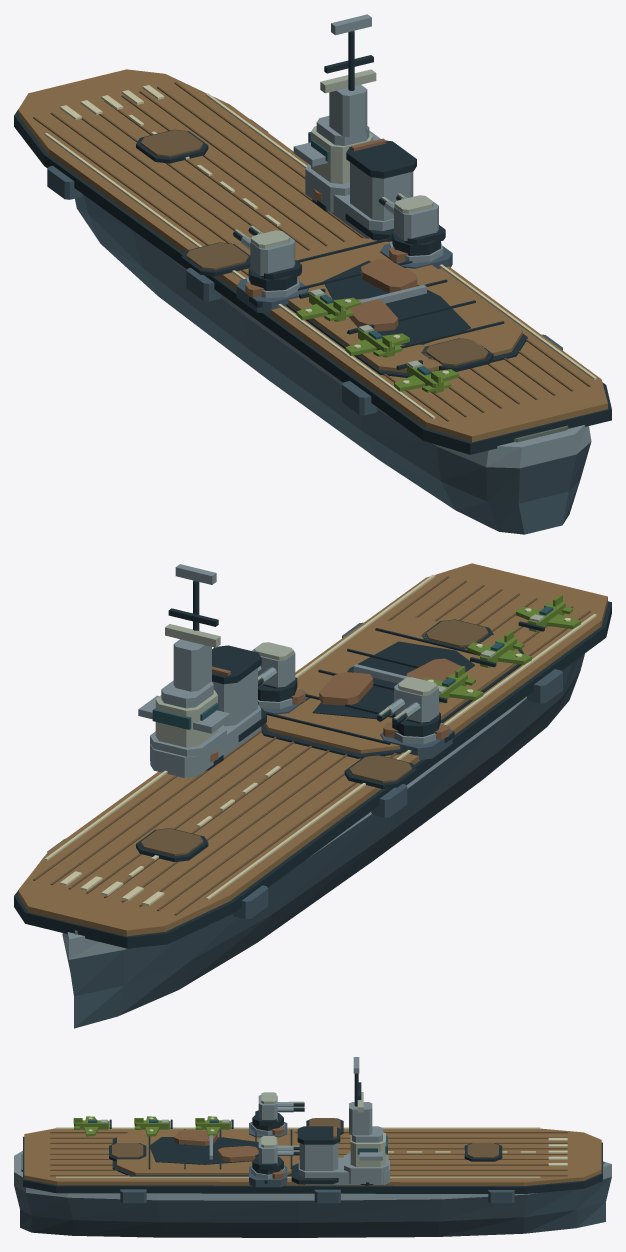
The model's file is historic-essex.glb.
3 renders of one model, top to bottom at view 1: azimuth 30°, elevation 25°; view 2: azimuth 150°, elevation 25°; view 3: azimuth 270°, elevation 25°, orthographic. The views are drawn at different scales.
Parts seen in each view (by area): view 1: historic-essex-historic-essex-geometry, historic-essex-part_flight-deck.003-geometry, historic-essex-part_bridge.009-geometry, historic-essex-ruin_flight-deck.002-geometry, historic-essex-historic_funnel_0.010-geometry, historic-essex-turret_aa_aa-port.011-geometry, historic-essex-turret_aa_aa-starboard.009-geometry, historic-essex-aircraft_lift_0.003-geometry, historic-essex-aircraft_lift_1.003-geometry, historic-essex-aircraft_lift_2.003-geometry, historic-essex-parked_aircraft_0.003-geometry, historic-essex-parked_aircraft_1.003-geometry (+3 smaller); view 2: historic-essex-historic-essex-geometry, historic-essex-part_flight-deck.003-geometry, historic-essex-part_bridge.009-geometry, historic-essex-ruin_flight-deck.002-geometry, historic-essex-historic_funnel_0.010-geometry, historic-essex-turret_aa_aa-port.011-geometry, historic-essex-turret_aa_aa-starboard.009-geometry, historic-essex-aircraft_lift_1.003-geometry, historic-essex-aircraft_lift_0.003-geometry, historic-essex-aircraft_lift_2.003-geometry, historic-essex-parked_aircraft_1.003-geometry, historic-essex-parked_aircraft_0.003-geometry (+2 smaller); view 3: historic-essex-historic-essex-geometry, historic-essex-part_flight-deck.003-geometry, historic-essex-part_bridge.009-geometry, historic-essex-historic_funnel_0.010-geometry, historic-essex-ruin_flight-deck.002-geometry, historic-essex-turret_aa_aa-port.011-geometry, historic-essex-turret_aa_aa-starboard.009-geometry, historic-essex-aircraft_lift_0.003-geometry, historic-essex-aircraft_lift_2.003-geometry, historic-essex-part_aa-starboard.009-geometry, historic-essex-parked_aircraft_1.003-geometry, historic-essex-parked_aircraft_0.003-geometry (+3 smaller).
Part boxes in pixels (left/top/right/bottom): historic-essex-historic-essex-geometry: left=14, top=69, right=611, bottom=534; historic-essex-part_flight-deck.003-geometry: left=286, top=238, right=527, bottom=377; historic-essex-part_bridge.009-geometry: left=293, top=14, right=380, bottom=212; historic-essex-ruin_flight-deck.002-geometry: left=323, top=259, right=470, bottom=344; historic-essex-historic_funnel_0.010-geometry: left=331, top=138, right=416, bottom=241; historic-essex-turret_aa_aa-port.011-geometry: left=233, top=225, right=301, bottom=290; historic-essex-turret_aa_aa-starboard.009-geometry: left=378, top=193, right=445, bottom=255; historic-essex-aircraft_lift_0.003-geometry: left=136, top=129, right=208, bottom=163; historic-essex-aircraft_lift_1.003-geometry: left=181, top=242, right=250, bottom=276; historic-essex-aircraft_lift_2.003-geometry: left=421, top=338, right=493, bottom=371; historic-essex-parked_aircraft_0.003-geometry: left=394, top=360, right=458, bottom=393; historic-essex-parked_aircraft_1.003-geometry: left=345, top=324, right=409, bottom=357; historic-essex-historic-essex-geometry: left=14, top=563, right=611, bottom=1028; historic-essex-part_flight-deck.003-geometry: left=261, top=617, right=524, bottom=758; historic-essex-part_bridge.009-geometry: left=138, top=564, right=230, bottom=773; historic-essex-ruin_flight-deck.002-geometry: left=312, top=641, right=474, bottom=719; historic-essex-historic_funnel_0.010-geometry: left=150, top=645, right=266, bottom=777; historic-essex-turret_aa_aa-port.011-geometry: left=376, top=677, right=440, bottom=736; historic-essex-turret_aa_aa-starboard.009-geometry: left=251, top=642, right=297, bottom=701; historic-essex-aircraft_lift_1.003-geometry: left=344, top=755, right=416, bottom=788; historic-essex-aircraft_lift_0.003-geometry: left=136, top=828, right=208, bottom=861; historic-essex-aircraft_lift_2.003-geometry: left=421, top=619, right=493, bottom=649; historic-essex-parked_aircraft_1.003-geometry: left=467, top=630, right=531, bottom=667; historic-essex-parked_aircraft_0.003-geometry: left=516, top=594, right=580, bottom=631; historic-essex-historic-essex-geometry: left=14, top=1127, right=611, bottom=1237; historic-essex-part_flight-deck.003-geometry: left=112, top=1129, right=299, bottom=1176; historic-essex-part_bridge.009-geometry: left=344, top=1057, right=388, bottom=1183; historic-essex-historic_funnel_0.010-geometry: left=291, top=1126, right=389, bottom=1184; historic-essex-ruin_flight-deck.002-geometry: left=150, top=1129, right=258, bottom=1164; historic-essex-turret_aa_aa-port.011-geometry: left=252, top=1092, right=304, bottom=1130; historic-essex-turret_aa_aa-starboard.009-geometry: left=252, top=1136, right=299, bottom=1174; historic-essex-aircraft_lift_0.003-geometry: left=464, top=1143, right=502, bottom=1161; historic-essex-aircraft_lift_2.003-geometry: left=109, top=1143, right=146, bottom=1161; historic-essex-part_aa-starboard.009-geometry: left=249, top=1165, right=287, bottom=1187; historic-essex-parked_aircraft_1.003-geometry: left=134, top=1116, right=172, bottom=1136; historic-essex-parked_aircraft_0.003-geometry: left=73, top=1116, right=111, bottom=1136.
Size of the model in its own units: 1.58 by 1.99 by 5.89.
